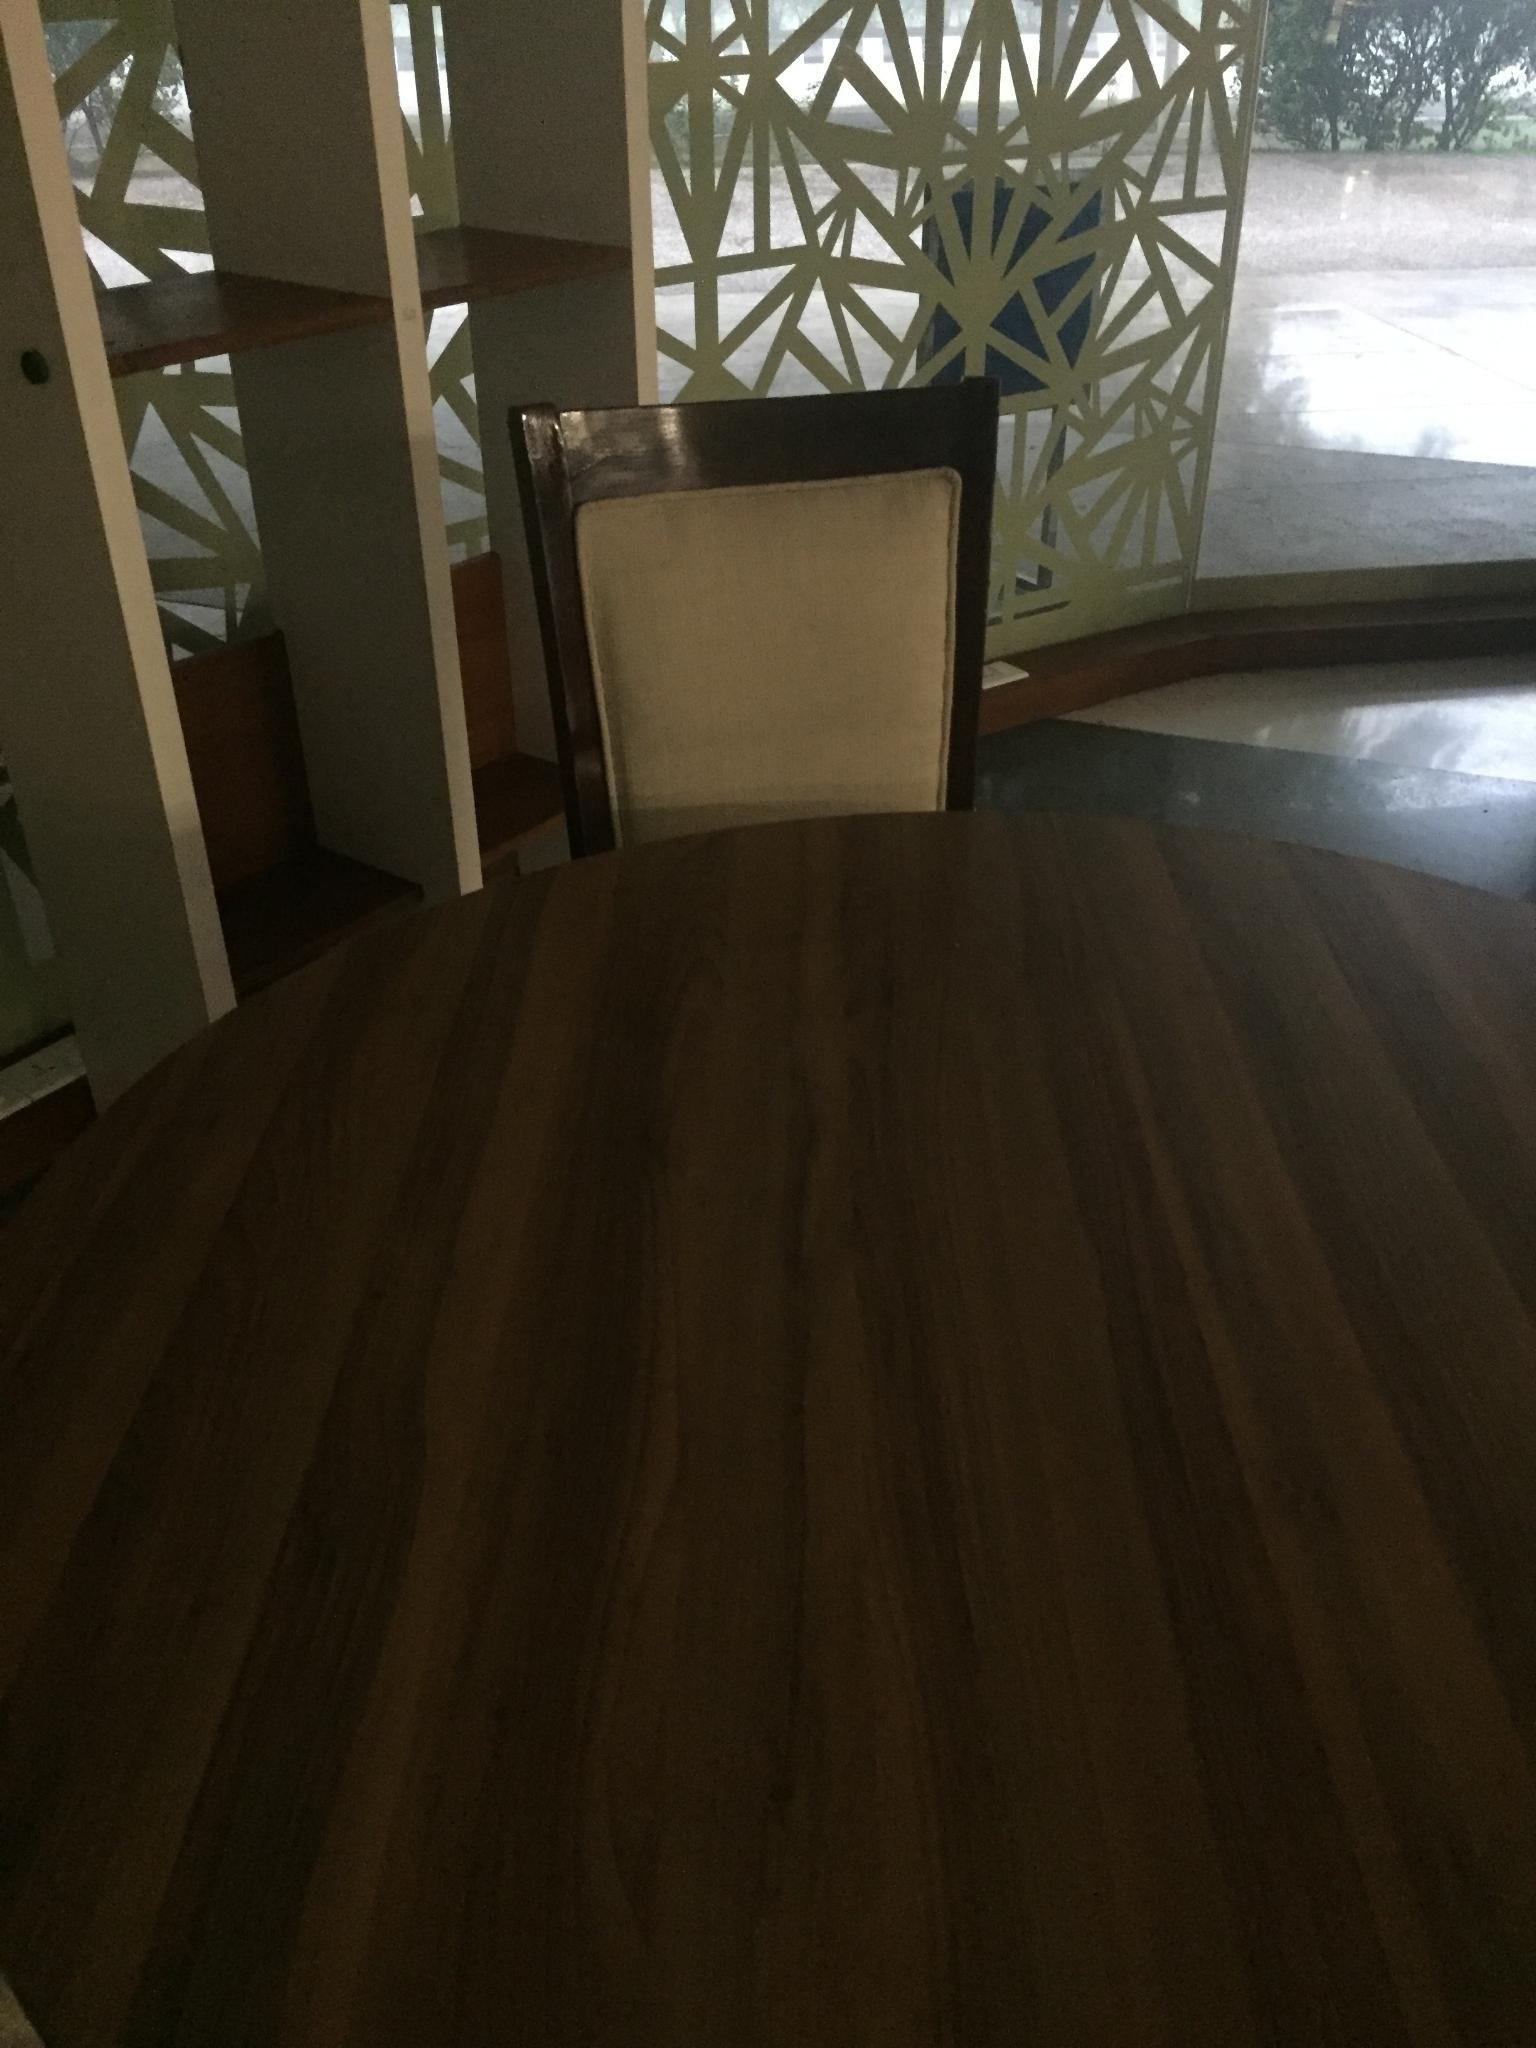chair: (507, 377, 1000, 856)
